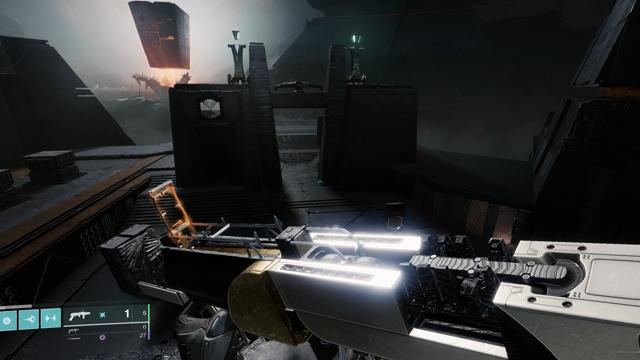commune: (200, 99, 221, 119)
